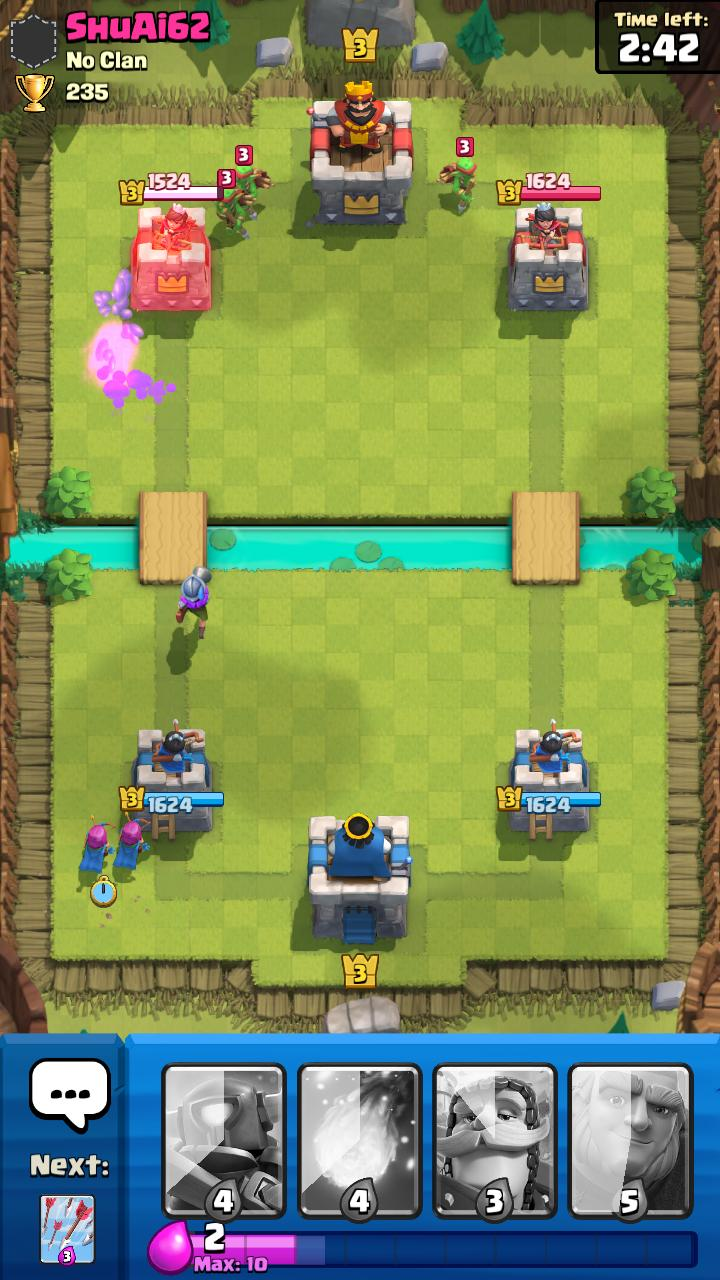ally: (175, 566, 212, 639), (112, 811, 151, 870), (78, 815, 116, 874)
enemy: (436, 137, 477, 214), (213, 169, 257, 239), (234, 145, 275, 209)
